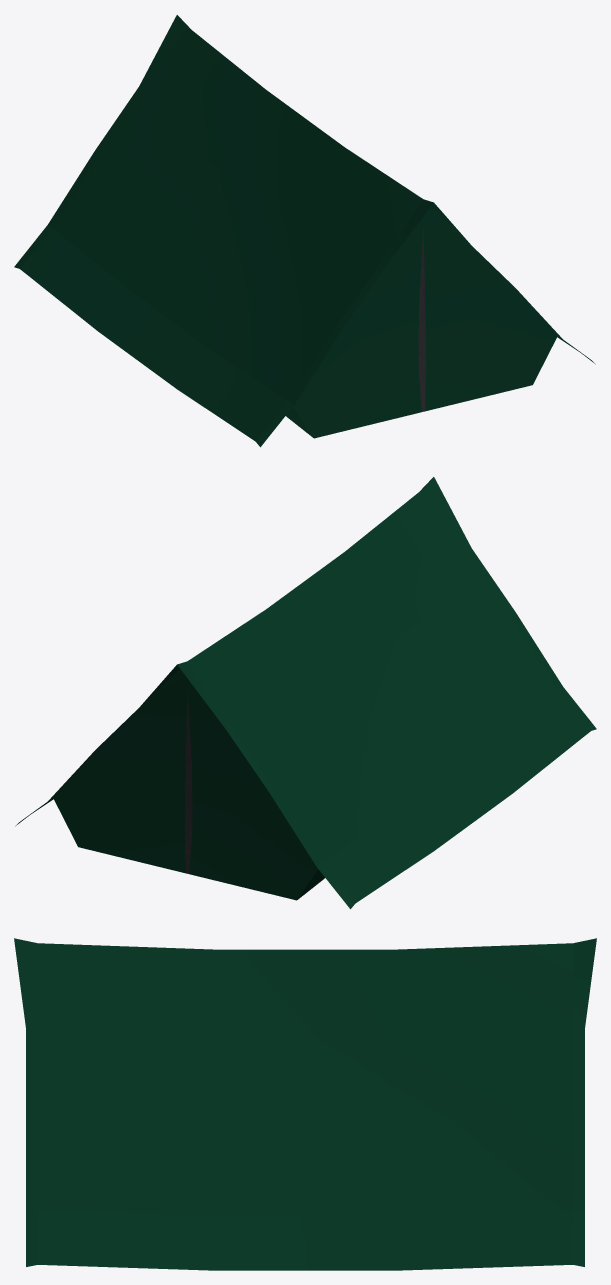
The model's file is tent.obj.
3 views of the same model, one above another, from view 1: azimuth 30°, elevation 25°; view 2: azimuth 150°, elevation 25°; view 3: azimuth 270°, elevation 25° (orthographic). The views are drawn at different scales.
Bounding box in the file's own units: 1.66 × 1.02 × 2.19.
2 materials, 2 textured.
